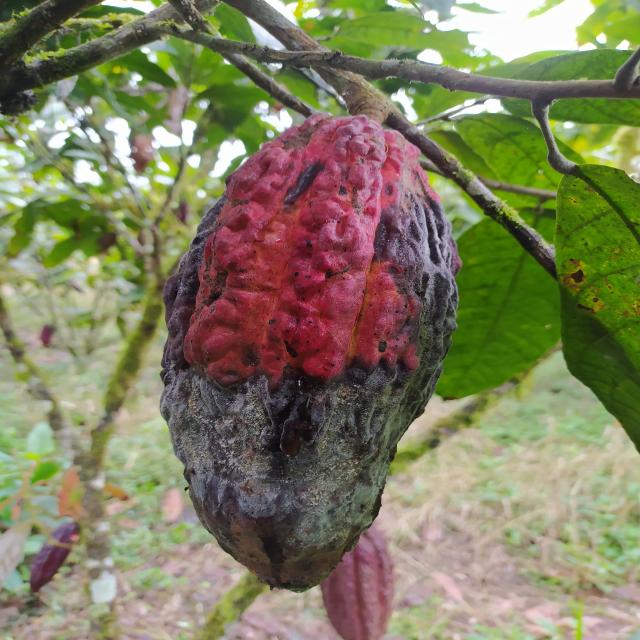Fitoftora: (160, 110, 460, 593)
